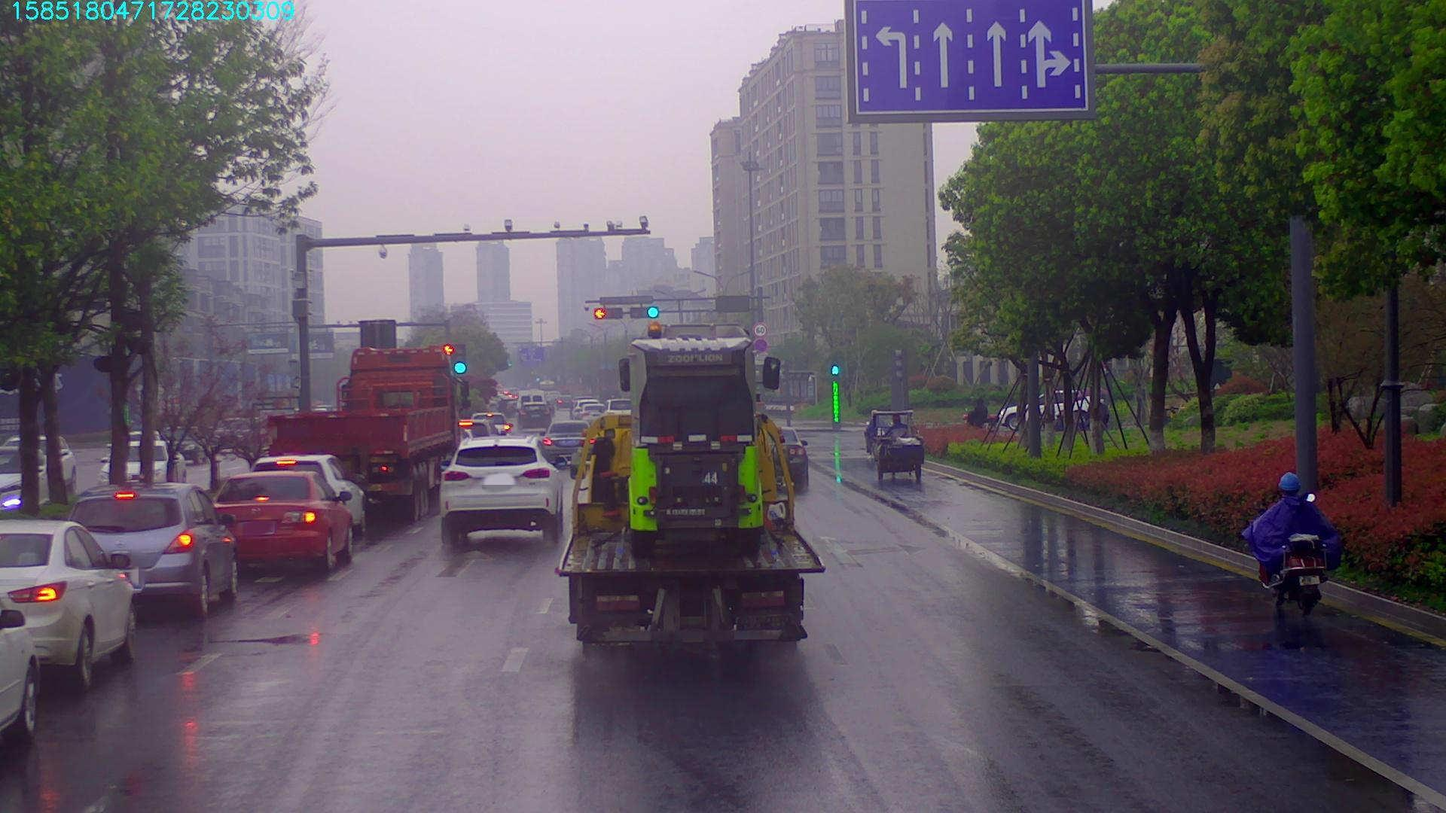green: (627, 303, 663, 317)
red: (589, 303, 621, 318)
